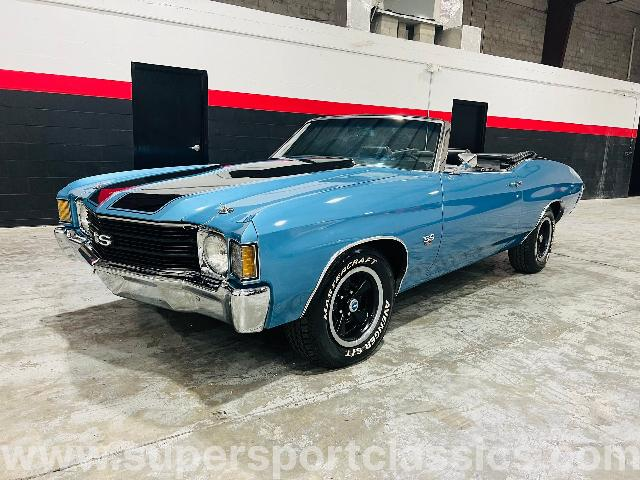chevelle-1972: (55, 115, 585, 368)
